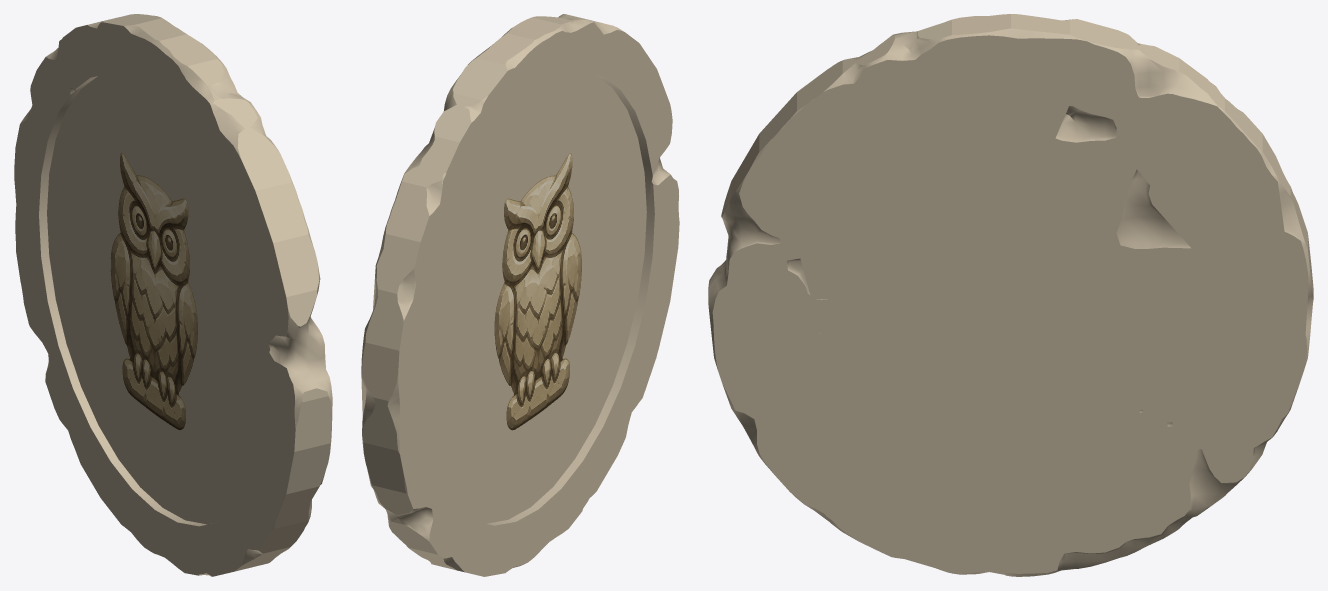
Rendered from Owl.fbx.
3 views of the same model, side by side, from view 1: azimuth 30°, elevation 25°; view 2: azimuth 150°, elevation 25°; view 3: azimuth 270°, elevation 25° (orthographic). The views are drawn at different scales.
Visible parts, largest first — view 1: Cylinder.009_dmg.001; view 2: Cylinder.009_dmg.001; view 3: Cylinder.009_dmg.001.
Boxes of the visible parts, x1,y1,x2,y2 form: Cylinder.009_dmg.001: (14,14,332,576); Cylinder.009_dmg.001: (361,14,679,576); Cylinder.009_dmg.001: (708,14,1313,576).
Size of the model in its own units: 8.69 by 113 by 113.
2 materials, 1 textured.
